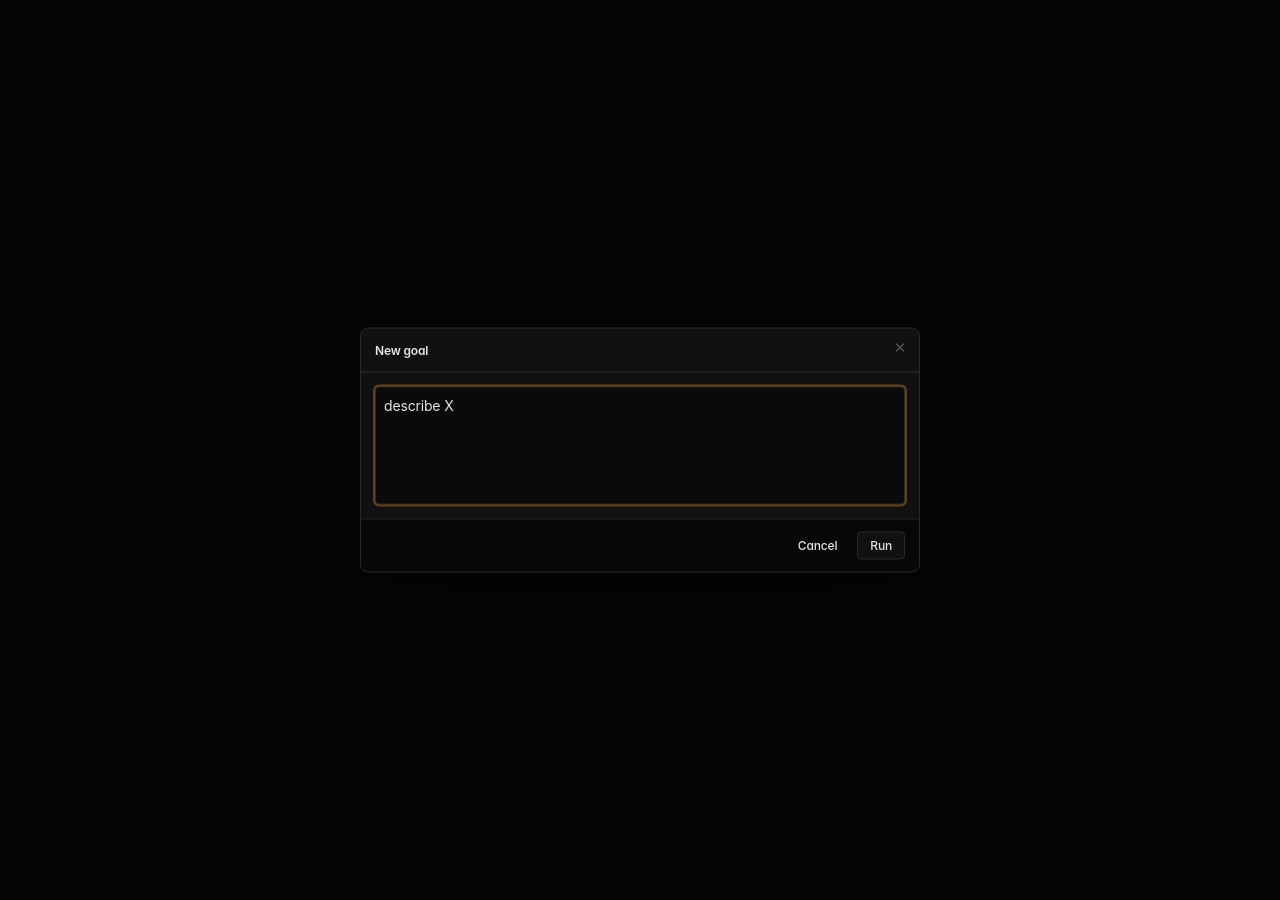
Test case: NewGoalModal › NewGoalModal_shows_friendly_error_when_backend_rejects_already_active
Click the button with test id "new-goal-run" at [881, 546], box [857, 532, 905, 560]
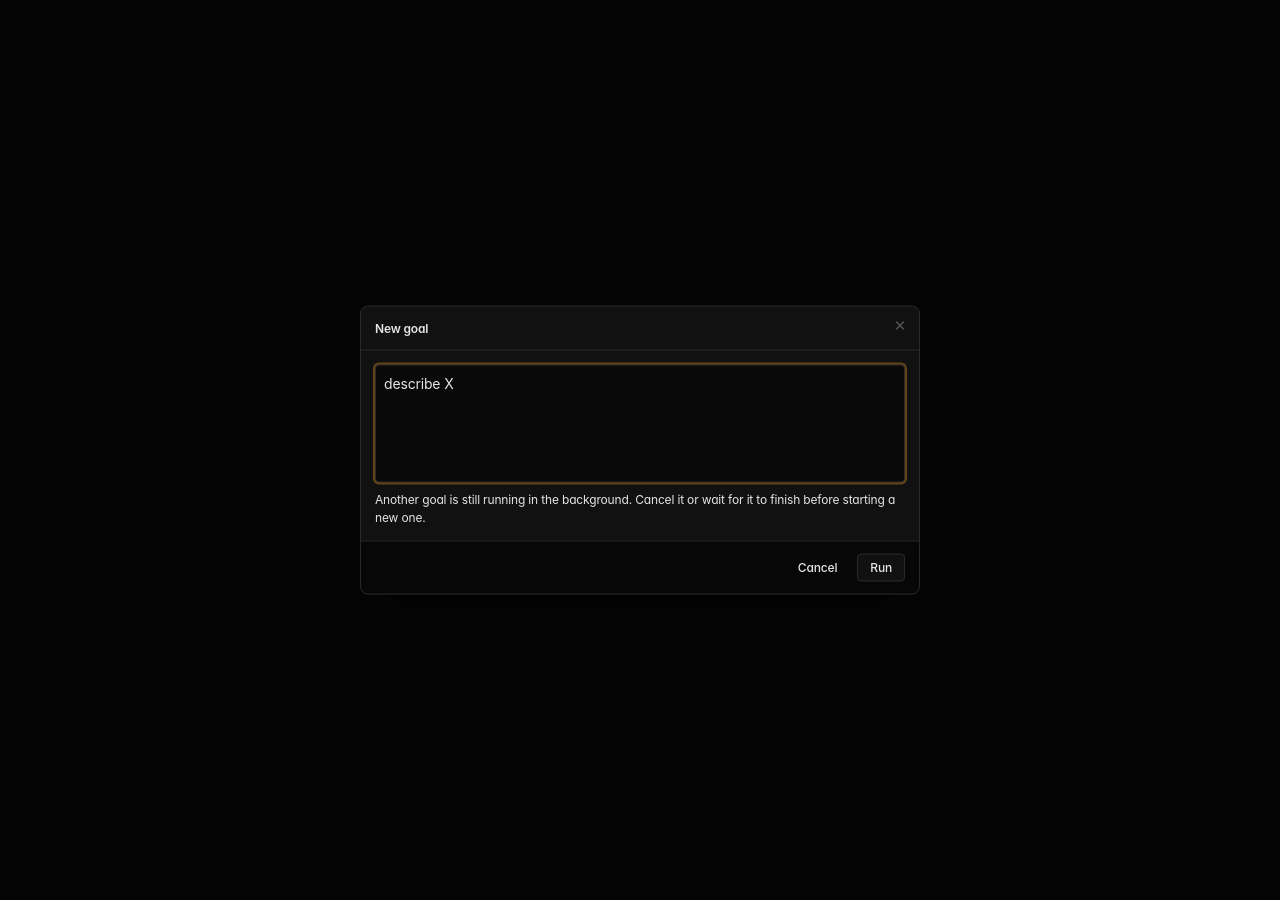
Now the message with test id "new-goal-spawn-error" shows "Another goal is still running in the background. Cancel it or wait for it to finish before starting a new one.", box [375, 492, 895, 524]
